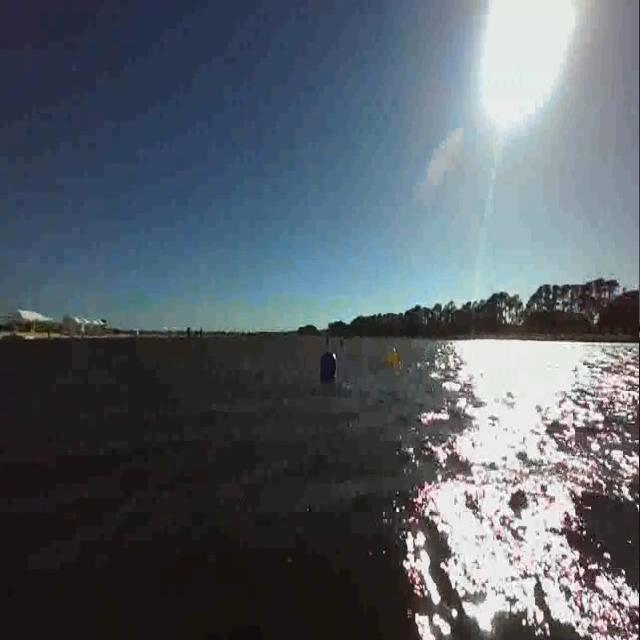blue-buoy: (317, 348, 340, 386)
yellow-buoy: (385, 350, 402, 376)
